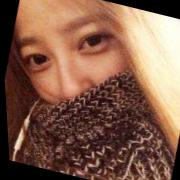WRONG: (13, 1, 150, 129)
